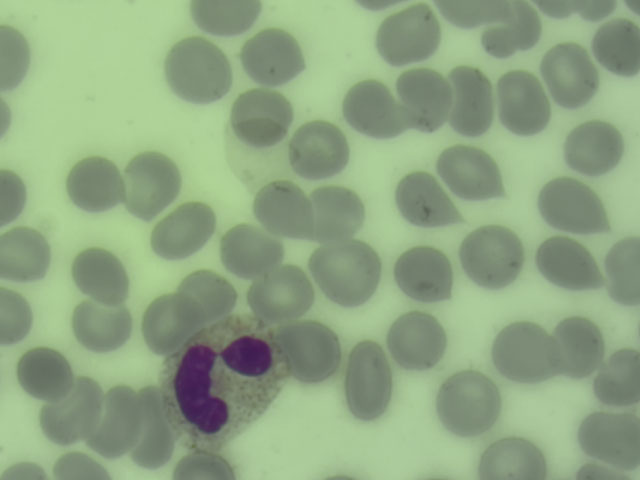RBC: (339, 336, 393, 418), (574, 410, 640, 475), (451, 62, 499, 138), (397, 69, 451, 134), (132, 383, 171, 466), (255, 181, 316, 233), (292, 122, 346, 180), (344, 78, 398, 136), (309, 187, 363, 245), (251, 29, 305, 87), (170, 41, 224, 99), (323, 243, 377, 301), (224, 221, 278, 279), (254, 267, 308, 325), (283, 323, 337, 381), (390, 311, 444, 369), (495, 323, 549, 381), (550, 316, 604, 374), (439, 372, 493, 430), (397, 244, 451, 302), (465, 228, 519, 286), (394, 171, 448, 229), (447, 143, 501, 201), (541, 235, 595, 293), (544, 176, 598, 234), (565, 122, 619, 180), (496, 73, 550, 131), (543, 47, 597, 105), (586, 20, 640, 78), (380, 6, 434, 64), (179, 267, 233, 325), (72, 295, 126, 353), (75, 242, 129, 300), (45, 376, 99, 434), (15, 343, 69, 401), (158, 200, 212, 258), (123, 155, 177, 213), (68, 154, 122, 212), (489, 1, 543, 58), (231, 94, 293, 143), (1, 223, 53, 281), (478, 434, 544, 479), (141, 298, 194, 353), (96, 385, 139, 451), (597, 345, 640, 410), (602, 231, 639, 305), (1, 21, 38, 94), (191, 1, 267, 33), (48, 450, 116, 480), (174, 451, 241, 480), (442, 1, 508, 30), (1, 289, 34, 347), (1, 166, 32, 227), (545, 1, 617, 25)
WBC: (167, 328, 279, 440)
